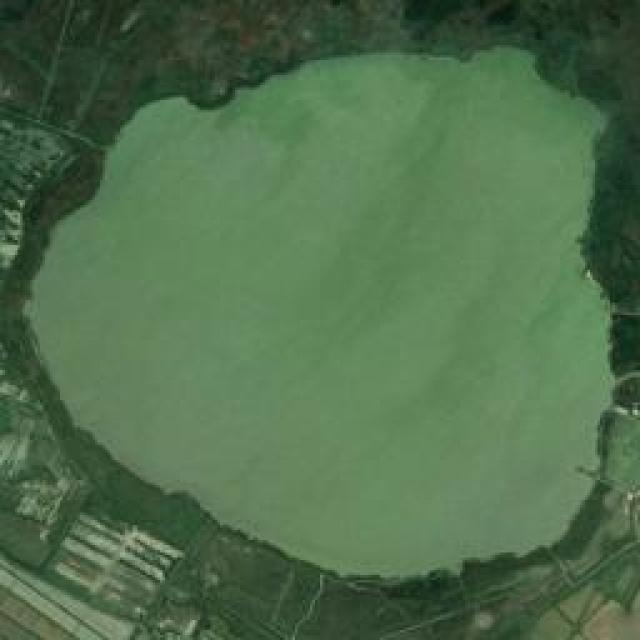Forest: (0, 0, 638, 638)
Lake: (13, 41, 618, 566)
